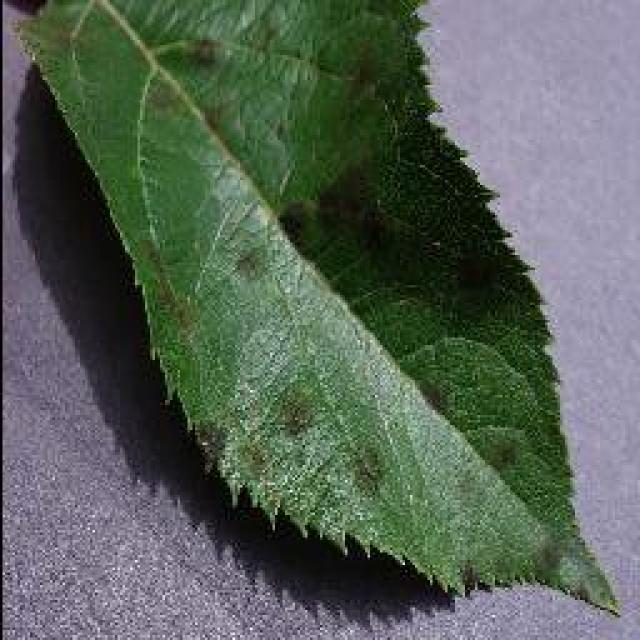apple scab disease: (12, 0, 620, 618)
